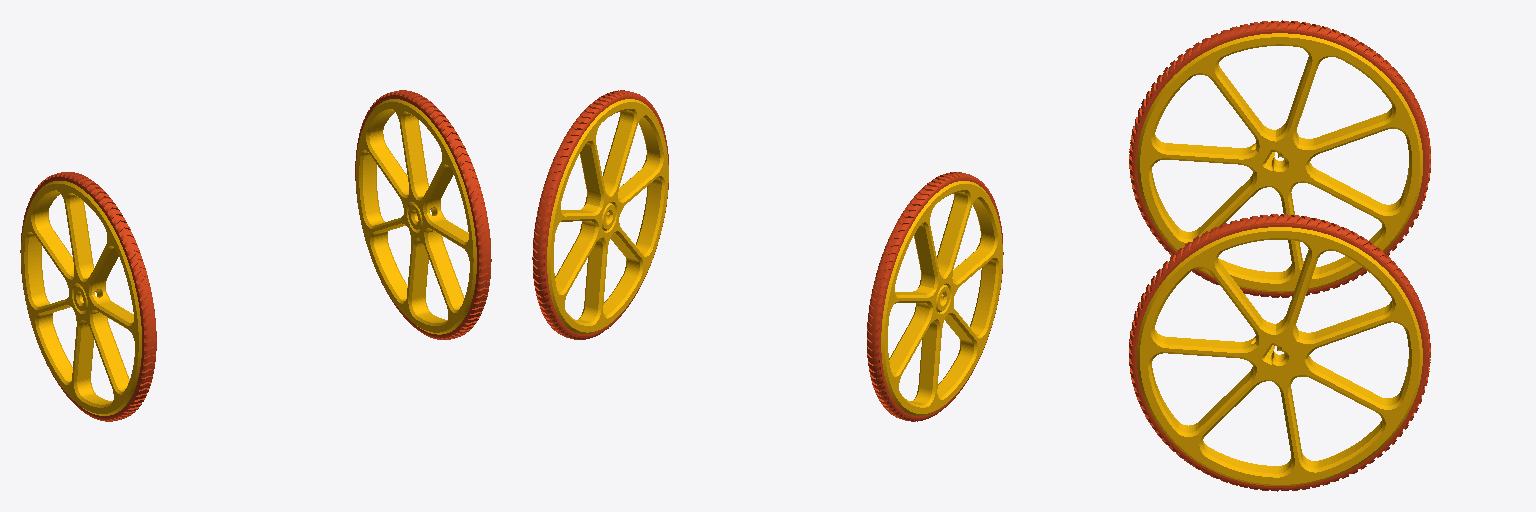
robot.urdf — robobot-v9:
<robot name="robobot-v9">
  <!-- <link name="base_link">
  </link> -->

  <link name="body">
    <inertial>
      <origin xyz="0.0 0.0 0.0" rpy="0.0 0.0 0.0"/>
      <mass value="0.0"/>
      <inertia ixx="0.0" ixy="0.0" ixz="0.0" iyy="0.0" iyz="0.0" izz="0.0"/>
    </inertial>
    <visual name="">
      <origin xyz="0.0 0.0 0.0" rpy="0.0 0.0 0.0"/>
      <geometry>
        <mesh filename="package://robobot_v9/mesh/robobot_v9_body.dae" scale="1.0 1.0 1.0"/>
      </geometry>
    </visual>
    <collision>
      <origin xyz="0.0 0.0 0.0" rpy="0.0 0.0 0.0"/>
      <geometry>
        <mesh filename="package://robobot_v9/colliders/robobot_v9_body.stl" scale="1.0 1.0 1.0"/>
      </geometry>
    </collision>
  </link>

  <link name="right_wheel_mount"></link>
  <link name="left_wheel_mount"></link>

  <link name="right_wheel">
    <visual name="">
      <origin xyz="-0.1155 0.1418 -0.075" rpy="0.0 0.0 0.0"/>
      <geometry>
        <mesh filename="package://robobot_v9/mesh/robobot_v9_wheel.dae" scale="1.0 1.0 1.0"/>
      </geometry>
    </visual>
    <collision>
      <origin xyz="-0.1155 0.1418 -0.075" rpy="0.0 0.0 0.0"/>
      <geometry>
        <mesh filename="package://robobot_v9/colliders/robobot_v9_wheel.stl" scale="1.0 1.0 1.0"/>
      </geometry>
    </collision>
  </link>
  <link name="left_wheel">
    <visual name="">
      <origin xyz="0.1155 -0.1418 -0.075" rpy="0.0 0.0 3.14"/>
      <geometry>
        <mesh filename="package://robobot_v9/mesh/robobot_v9_wheel.dae" scale="1.0 1.0 1.0"/>
      </geometry>
    </visual>
    <collision>
      <origin xyz="0.1155 -0.1418 -0.075" rpy="0.0 0.0 3.14"/>
      <geometry>
        <mesh filename="package://robobot_v9/colliders/robobot_v9_wheel.stl" scale="1.0 1.0 1.0"/>
      </geometry>
    </collision>
  </link>
<!-- 
  <joint name="robot" type="floating">
    <parent link="base_link"/>
    <child link="body"/>
  </joint> -->

  <joint name="mount_left" type="fixed">
    <origin xyz="-0.1155 -0.142 0.075" rpy="0.0 0.0 0.0"/>
    <parent link="body"/>
    <child link="left_wheel_mount"/>
  </joint>
  <joint name="mount_right" type="fixed">
    <origin xyz="0.1155 -0.142 0.075" rpy="0.0 0.0 3.14"/>
    <parent link="body"/>
    <child link="right_wheel_mount"/>
  </joint>

  <joint name="right_wheel" type="continuous">
    <parent link="right_wheel_mount"/>
    <child link="right_wheel"/>
    <axis xyz="1.0 0.0 0.0"/>
  </joint>
  <joint name="left_wheel" type="continuous">
    <parent link="left_wheel_mount"/>
    <child link="left_wheel"/>
    <axis xyz="1.0 0.0 0.0"/>
  </joint>

</robot>

--- Facts derived from the render (not from the file) ---
Views: 3 orthographic renders of the robot side by side, from view 1: azimuth 30°, elevation 25°; view 2: azimuth 150°, elevation 25°; view 3: azimuth 270°, elevation 25°.
Robot: robobot-v9 — 5 links, 4 joints (2 continuous, 2 fixed); root link body; default pose: every joint at zero.
Links seen in each view (by area): view 1: right_wheel, left_wheel; view 2: right_wheel, left_wheel; view 3: right_wheel, left_wheel.
Link boxes in pixels (box(x1,y1,x2,y2)): right_wheel: box(355, 90, 491, 339); left_wheel: box(20, 172, 156, 421); right_wheel: box(532, 90, 668, 339); left_wheel: box(867, 172, 1003, 421); right_wheel: box(1129, 214, 1430, 491); left_wheel: box(1129, 20, 1430, 297).
Size in the robot's own frame: 0.243 by 0.1522 by 0.152 metres.
2 mesh visuals loaded from 2 distinct referenced files (1 Collada DAE); not drawn: 1 (reference not matched to a file when rendering).